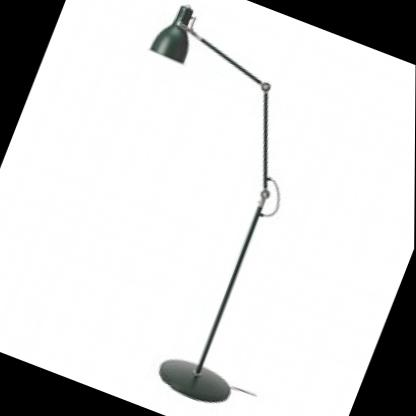Lamp: (22, 0, 360, 415)
